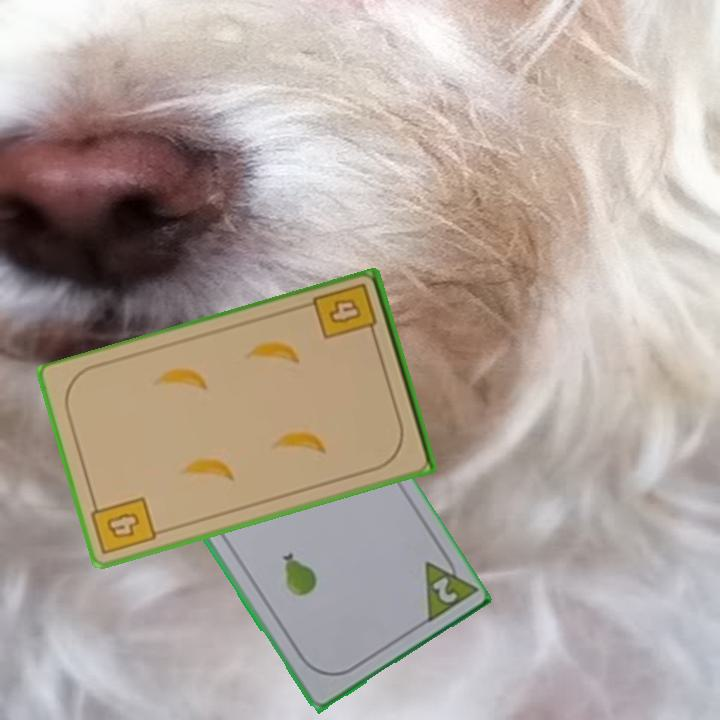2p: (419, 545, 477, 628)
4b: (87, 494, 160, 558), (310, 280, 381, 345)
